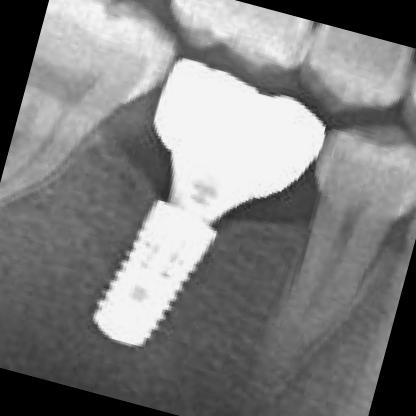ITI: (75, 182, 234, 374)
